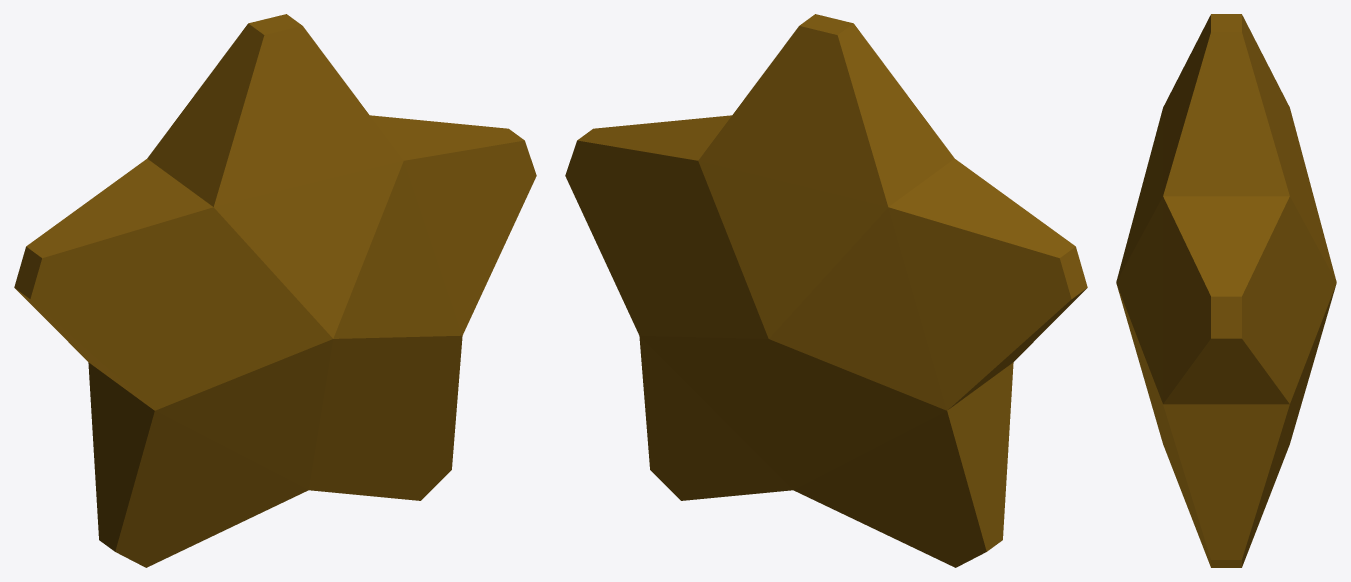
The model's file is Star.obj.
3 views of the same model, side by side, from view 1: azimuth 30°, elevation 25°; view 2: azimuth 150°, elevation 25°; view 3: azimuth 270°, elevation 25° (orthographic). The views are drawn at different scales.
Parts seen in each view (by area): view 1: Star.011; view 2: Star.011; view 3: Star.011.
Boxes of the visible parts, x1,y1,x2,y2 form: Star.011: (14,14,536,567); Star.011: (565,14,1087,567); Star.011: (1116,14,1336,567).
Bounding box in the file's own units: 0.8516 × 0.8099 × 0.3367.
